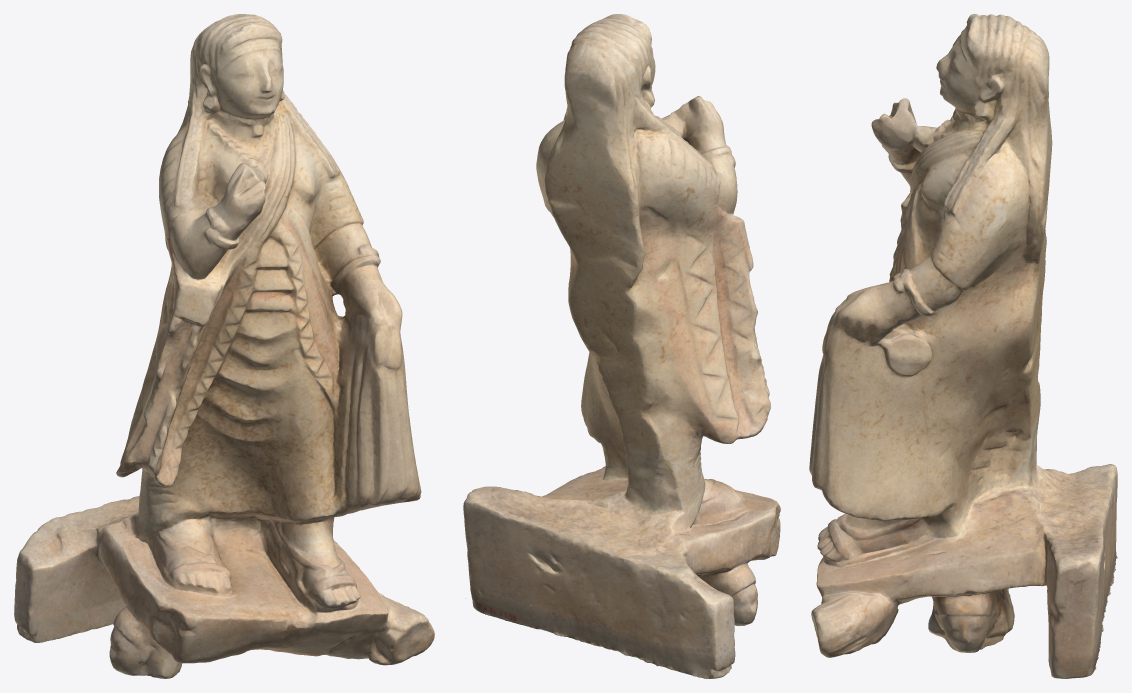
File: preview.glb
3 renders of one model, left to right at view 1: azimuth 30°, elevation 25°; view 2: azimuth 150°, elevation 25°; view 3: azimuth 270°, elevation 25°, orthographic. The views are drawn at different scales.
Visible parts, largest first — view 1: ADVIMG_74_51_2558_LimestoneFigureWoman_7M_n3d; view 2: ADVIMG_74_51_2558_LimestoneFigureWoman_7M_n3d; view 3: ADVIMG_74_51_2558_LimestoneFigureWoman_7M_n3d.
Part boxes in pixels (<box>): ADVIMG_74_51_2558_LimestoneFigureWoman_7M_n3d: <box>14,14,434,678</box>; ADVIMG_74_51_2558_LimestoneFigureWoman_7M_n3d: <box>463,14,780,678</box>; ADVIMG_74_51_2558_LimestoneFigureWoman_7M_n3d: <box>809,14,1117,678</box>.
Bounding box in the file's own units: 0.1198 × 0.2493 × 0.1138.
1 material, 1 textured.
